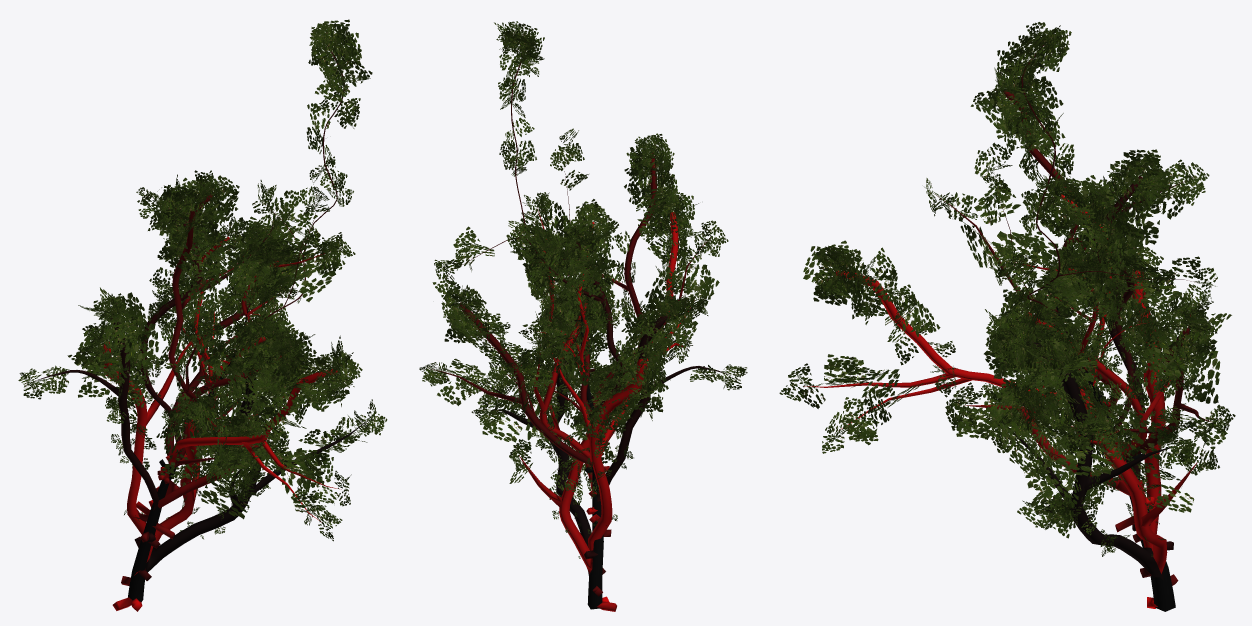
File: Tree_7.fbx
The picture shows the model from 3 angles, left to right: view 1: azimuth 30°, elevation 25°; view 2: azimuth 150°, elevation 25°; view 3: azimuth 270°, elevation 25°; orthographic projection. The views are drawn at different scales.
Parts seen in each view (by area): view 1: Tree_20; view 2: Tree_20; view 3: Tree_20.
Boxes of the visible parts, box(x1,y1,x2,y2) form: Tree_20: box(18, 19, 387, 611); Tree_20: box(419, 21, 747, 611); Tree_20: box(779, 22, 1235, 611).
Bounding box in the file's own units: 1048 × 1724 × 1071.
